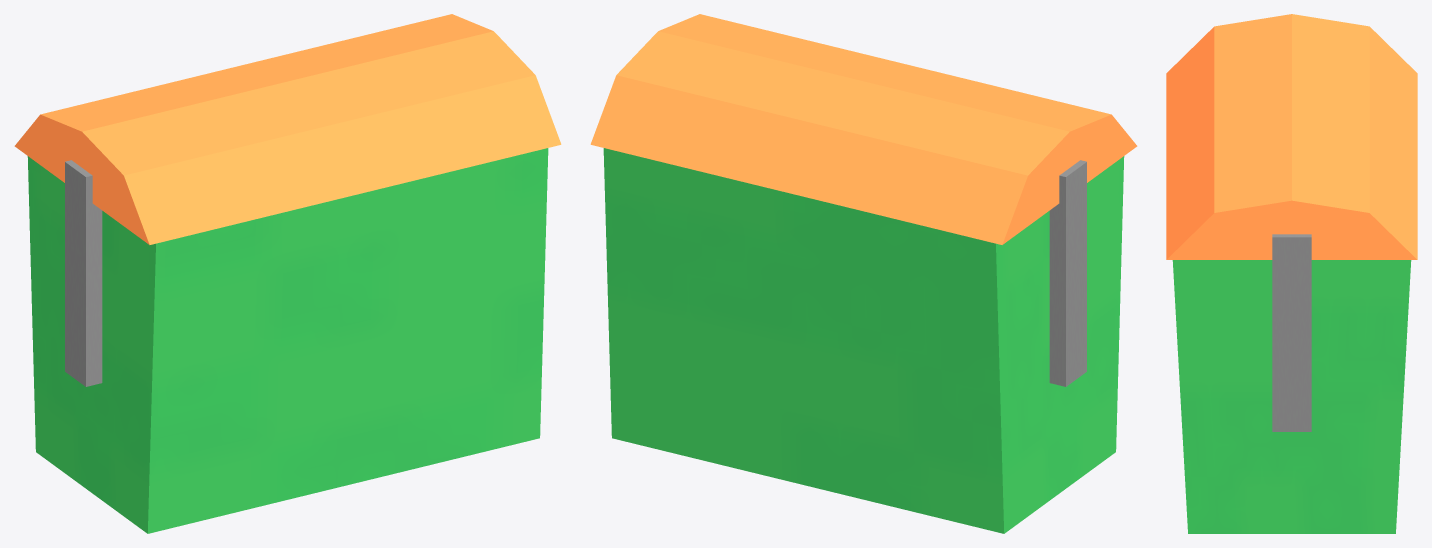
File: trashbox.002.glb
3 renders of one model, left to right at view 1: azimuth 30°, elevation 25°; view 2: azimuth 150°, elevation 25°; view 3: azimuth 270°, elevation 25°, orthographic. The views are drawn at different scales.
Parts seen in each view (by area): view 1: trashbox.002(Clone); view 2: trashbox.002(Clone); view 3: trashbox.002(Clone).
Boxes of the visible parts, box(x1,y1,x2,y2) form: trashbox.002(Clone): box(14, 14, 561, 533); trashbox.002(Clone): box(590, 14, 1137, 533); trashbox.002(Clone): box(1166, 14, 1417, 533).
Size of the model in its own units: 1.51 by 1.23 by 0.8313.
1 material, 1 textured.
